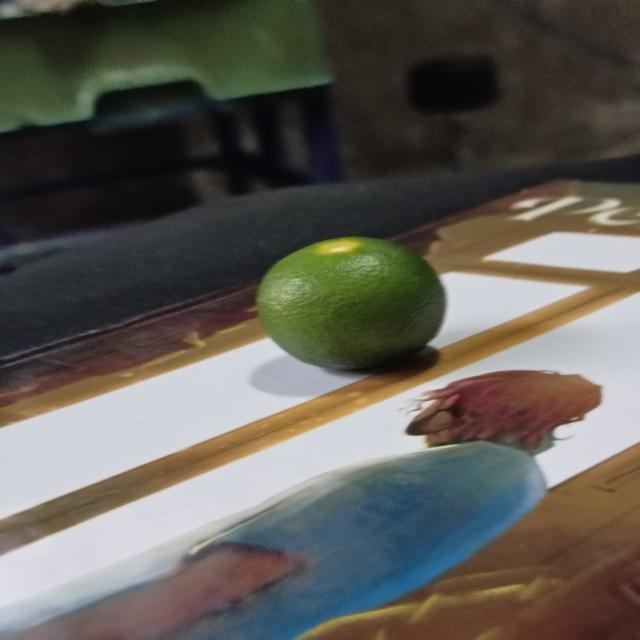heathy: (255, 234, 449, 374)
